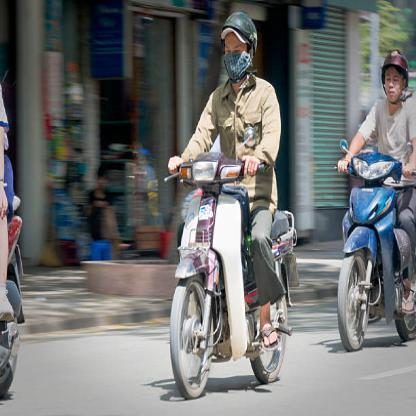Motorcycle: (160, 136, 296, 398), (329, 122, 416, 358)
